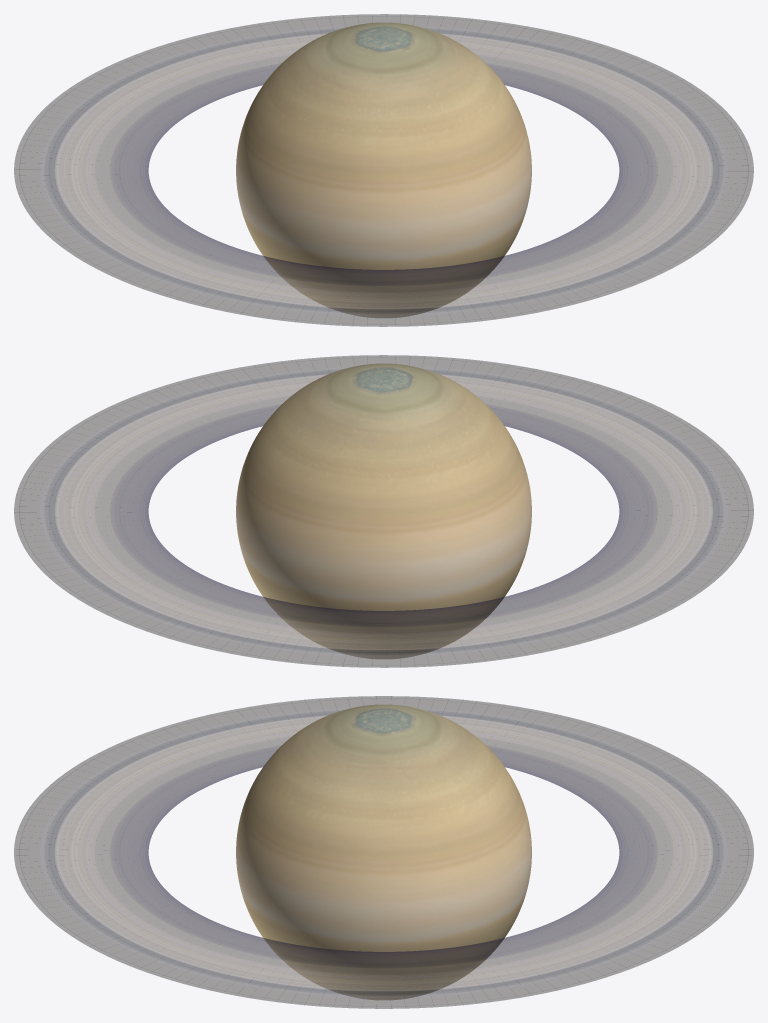
File: saturn.glb
3 renders of one model, top to bottom at view 1: azimuth 30°, elevation 25°; view 2: azimuth 150°, elevation 25°; view 3: azimuth 270°, elevation 25°, orthographic.
Visible parts, largest first — view 1: Mesh (7), Earth; view 2: Mesh (7), Earth; view 3: Mesh (7), Earth.
Boxes of the visible parts, x1,y1,x2,y2 form: Mesh (7): (14, 14, 753, 326); Earth: (236, 22, 531, 318); Mesh (7): (14, 355, 753, 667); Earth: (236, 363, 531, 659); Mesh (7): (14, 696, 753, 1008); Earth: (236, 704, 531, 1000).
Bounding box in the file's own units: 250 × 100 × 250.
Materials: 2 (2 with a texture image).
